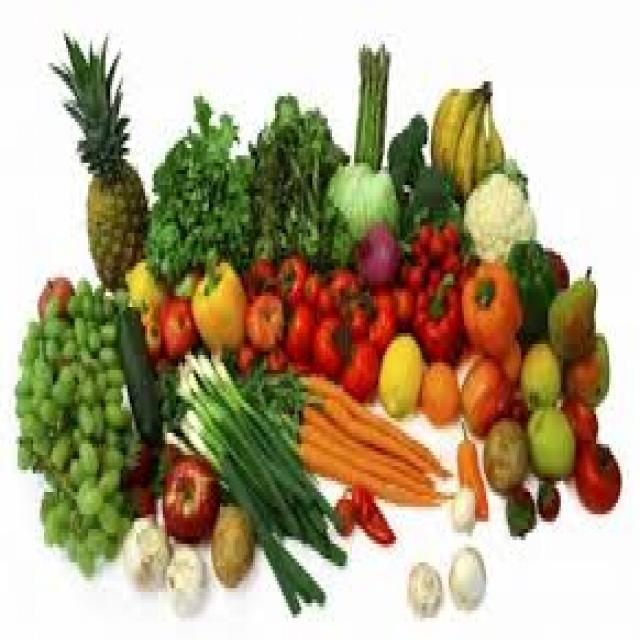organic waste: (161, 348, 321, 614), (191, 352, 343, 562), (141, 93, 253, 270), (253, 92, 352, 262), (292, 370, 444, 466), (294, 381, 436, 470), (294, 418, 448, 499), (49, 29, 128, 174), (295, 436, 440, 499), (297, 396, 420, 470), (72, 411, 126, 574), (86, 159, 147, 289), (13, 310, 88, 400), (462, 159, 532, 255), (72, 318, 130, 429), (189, 248, 244, 355), (460, 259, 521, 355), (116, 304, 160, 436), (323, 159, 396, 237), (407, 259, 460, 366), (16, 399, 92, 470), (160, 455, 216, 548), (543, 263, 594, 359), (352, 41, 387, 170), (504, 237, 550, 333), (64, 278, 119, 355), (431, 78, 473, 178), (376, 326, 422, 414), (457, 355, 508, 433), (526, 399, 574, 481), (398, 170, 460, 230), (572, 437, 620, 514), (209, 496, 251, 584), (121, 514, 169, 588), (387, 111, 425, 200), (479, 414, 524, 488), (561, 333, 607, 403), (160, 540, 204, 611), (519, 340, 559, 414), (354, 218, 398, 285), (38, 488, 82, 555), (345, 481, 394, 540), (414, 200, 456, 266), (154, 292, 198, 355), (123, 252, 167, 314), (418, 355, 457, 422), (312, 307, 348, 377), (458, 429, 486, 518), (446, 540, 482, 607), (244, 288, 284, 348), (453, 89, 475, 196), (341, 333, 376, 399), (479, 74, 502, 166), (392, 256, 420, 330), (280, 300, 312, 362), (561, 388, 596, 441), (117, 433, 154, 481), (407, 562, 440, 614), (272, 252, 304, 304), (38, 274, 72, 322), (365, 288, 394, 340), (117, 481, 156, 518), (506, 481, 532, 536), (150, 440, 180, 485), (52, 458, 84, 496), (495, 336, 519, 384), (240, 252, 270, 288), (473, 103, 488, 174), (451, 481, 473, 529), (330, 485, 352, 529), (530, 481, 556, 518), (326, 266, 350, 304), (503, 392, 528, 426), (141, 314, 158, 362), (544, 248, 568, 281), (310, 277, 332, 311), (173, 263, 196, 292), (299, 266, 319, 296), (262, 340, 279, 370), (233, 341, 251, 366), (42, 292, 57, 311)
